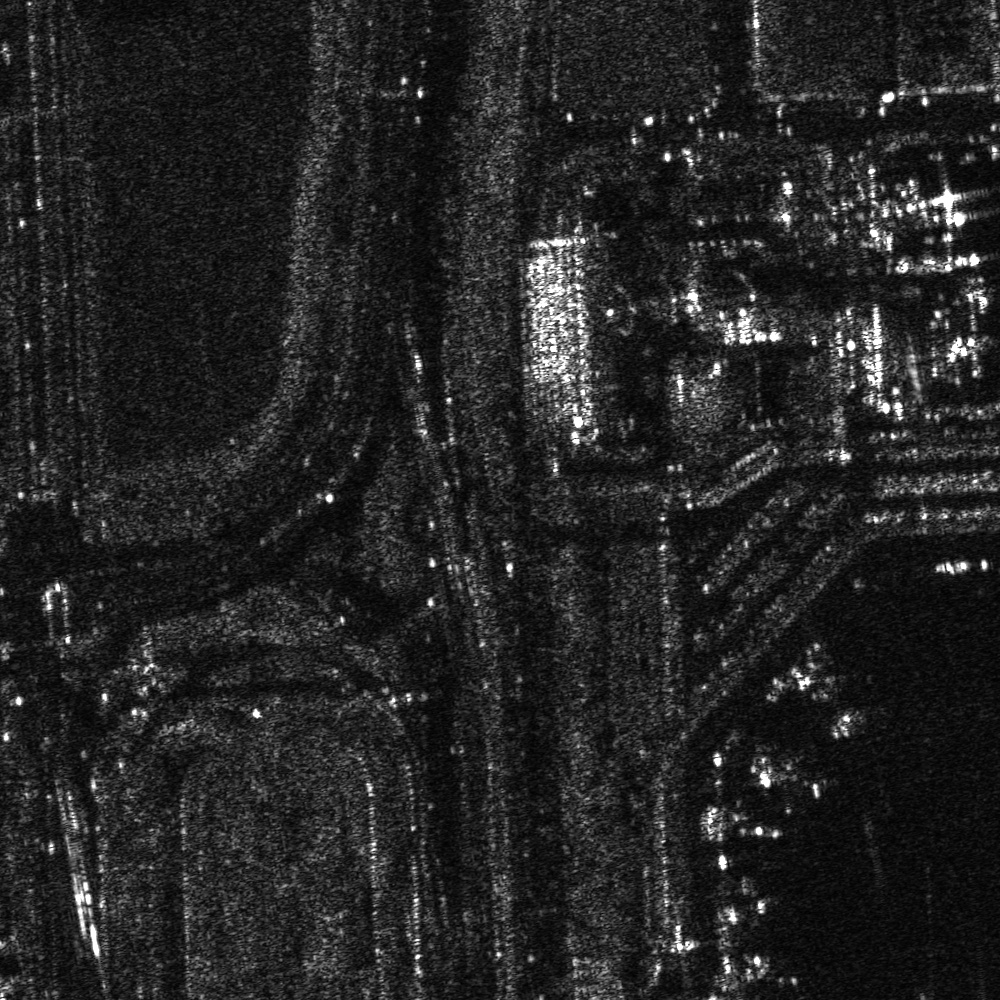A220: (793, 663, 884, 745), (743, 744, 840, 820)
